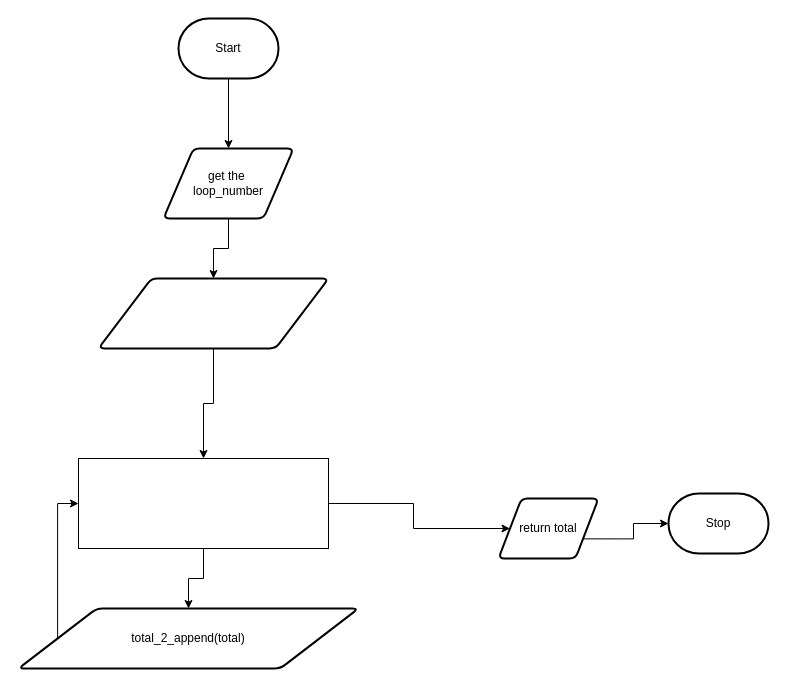
The diagram is 786 pixels wide and 686 high, and some of its shapes have lost their labels. The centre of each missing label's shape, as x and y in pixels:
get the loop_number_2: the point at 213,313
total = loop_number[loop_counter]8 keep_number_2[loop_counter]: the point at 203,503
